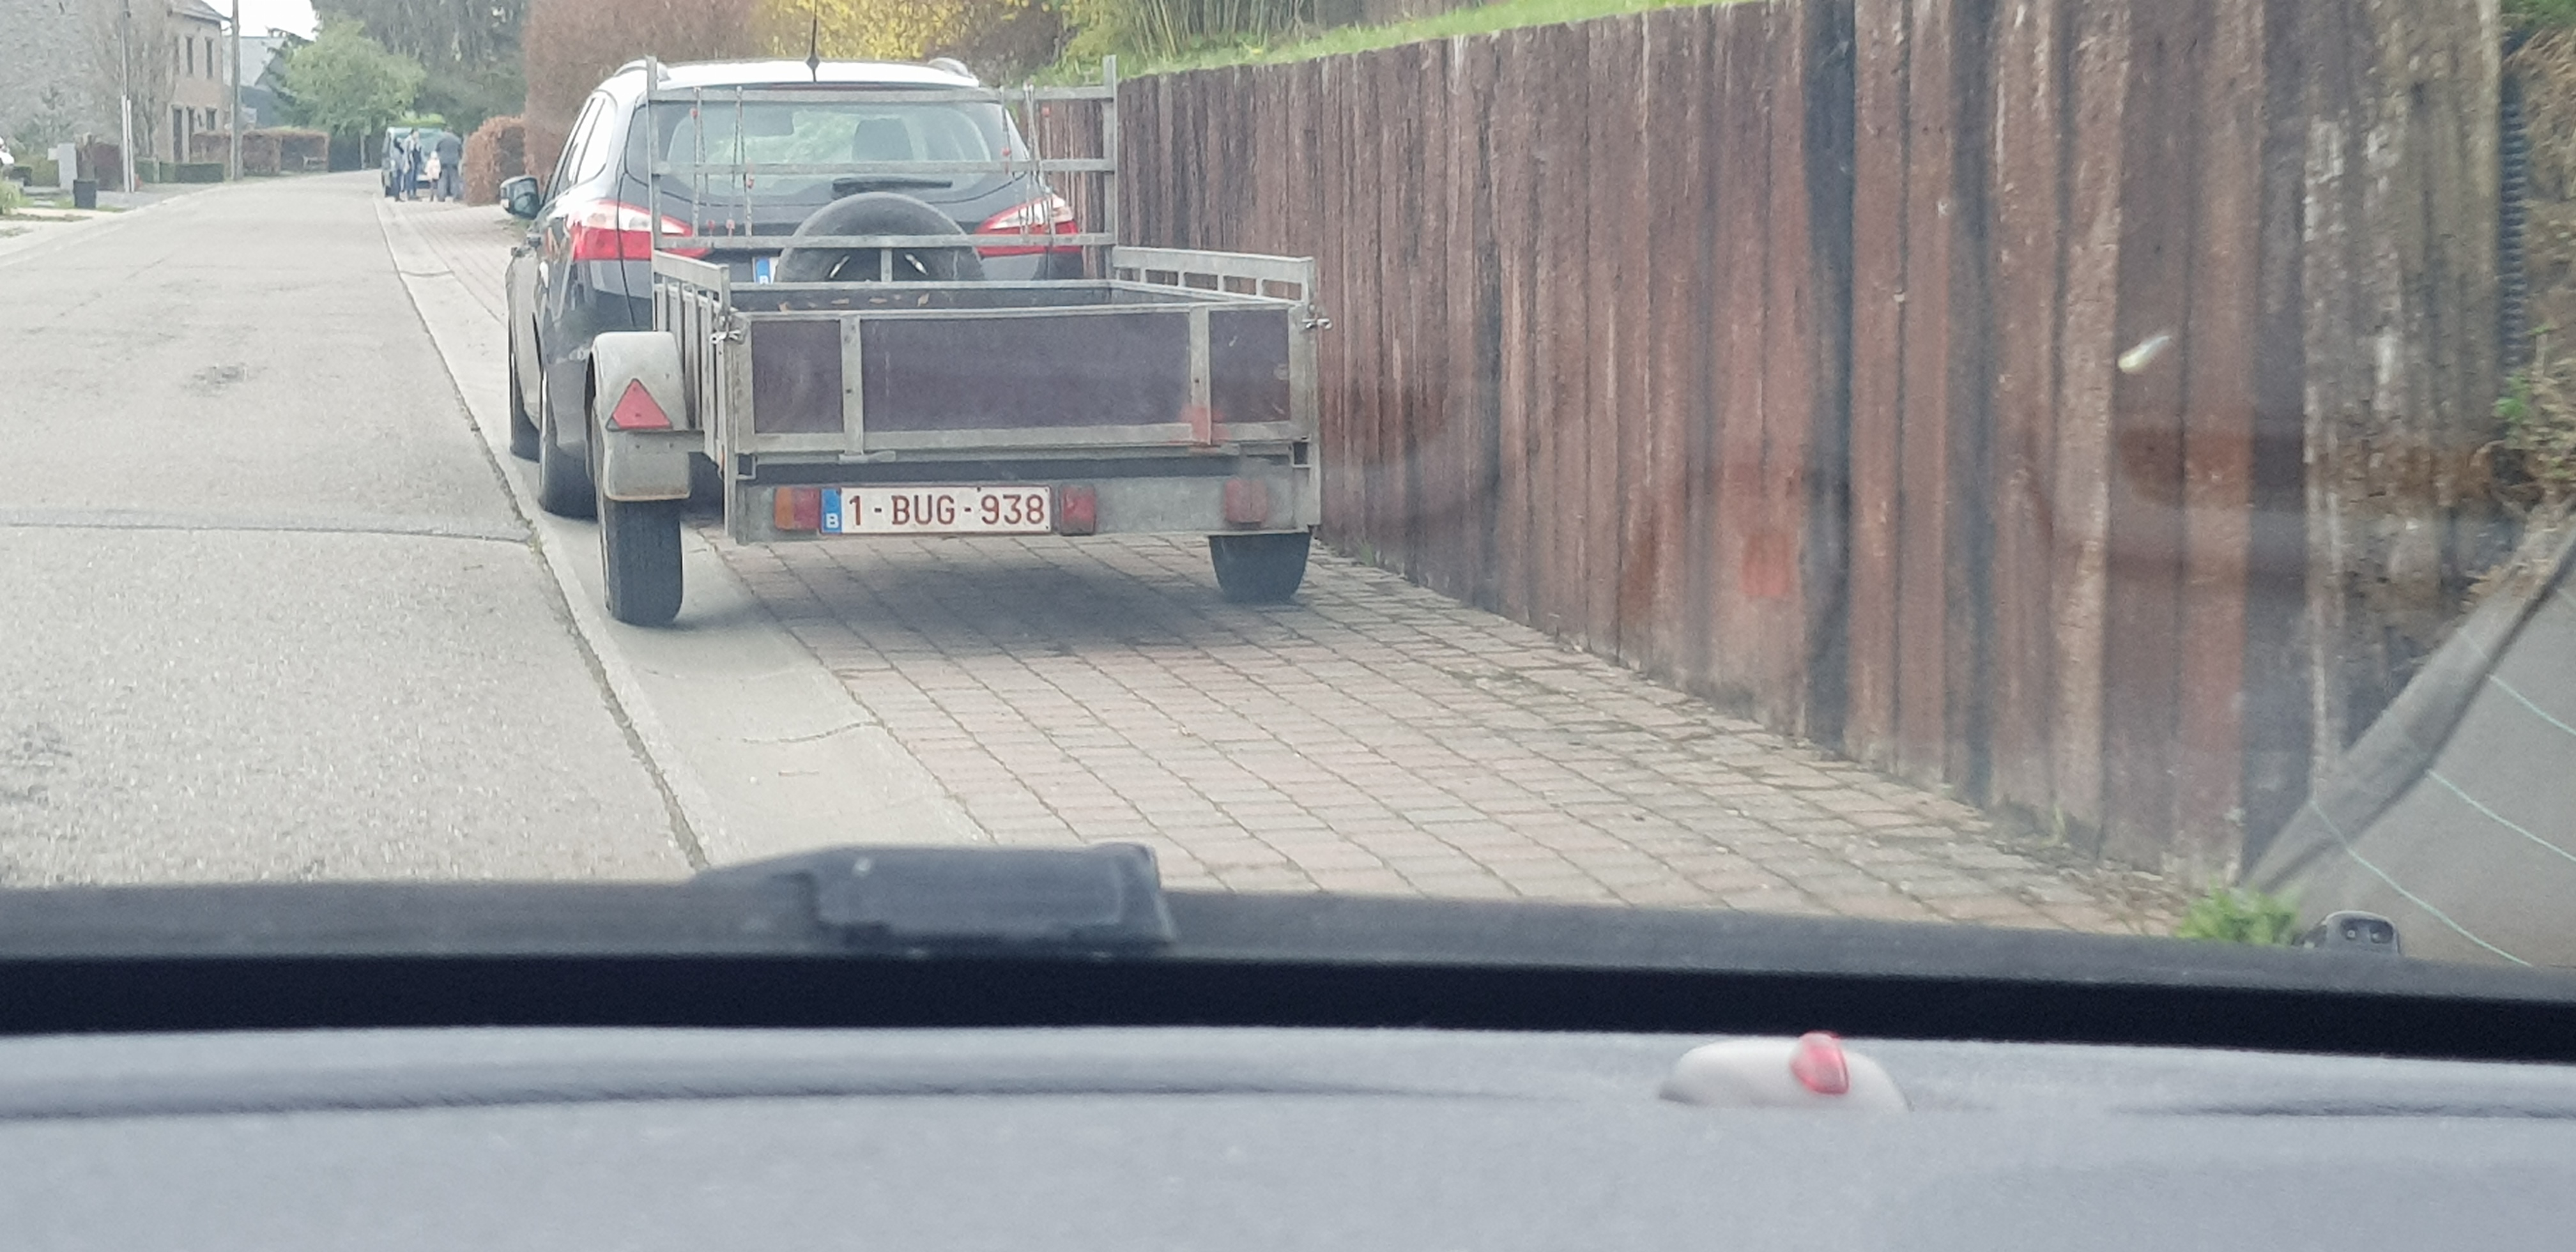licenceplate: (821, 487, 1054, 538)
